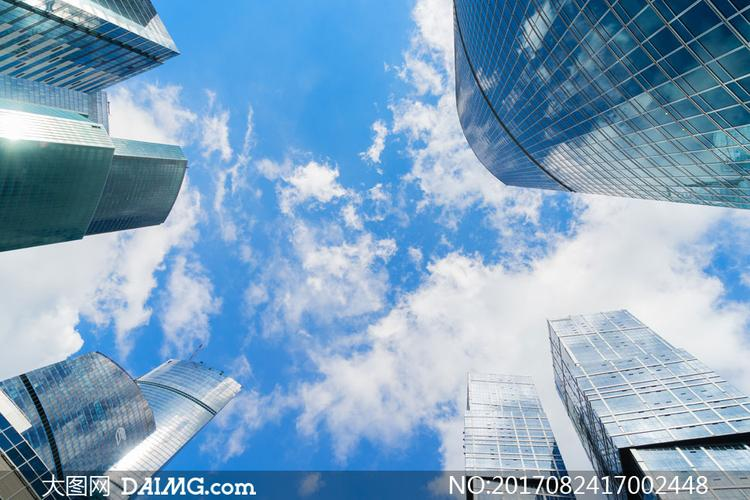buildings: (68, 69, 736, 441), (452, 19, 744, 209), (543, 305, 732, 475), (12, 351, 206, 483), (10, 111, 186, 255), (104, 358, 243, 490), (453, 357, 558, 483)
